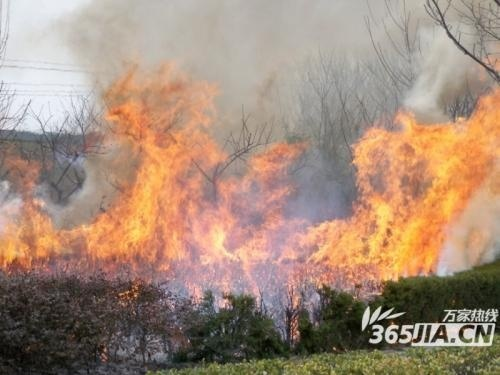fire: (58, 54, 482, 336)
